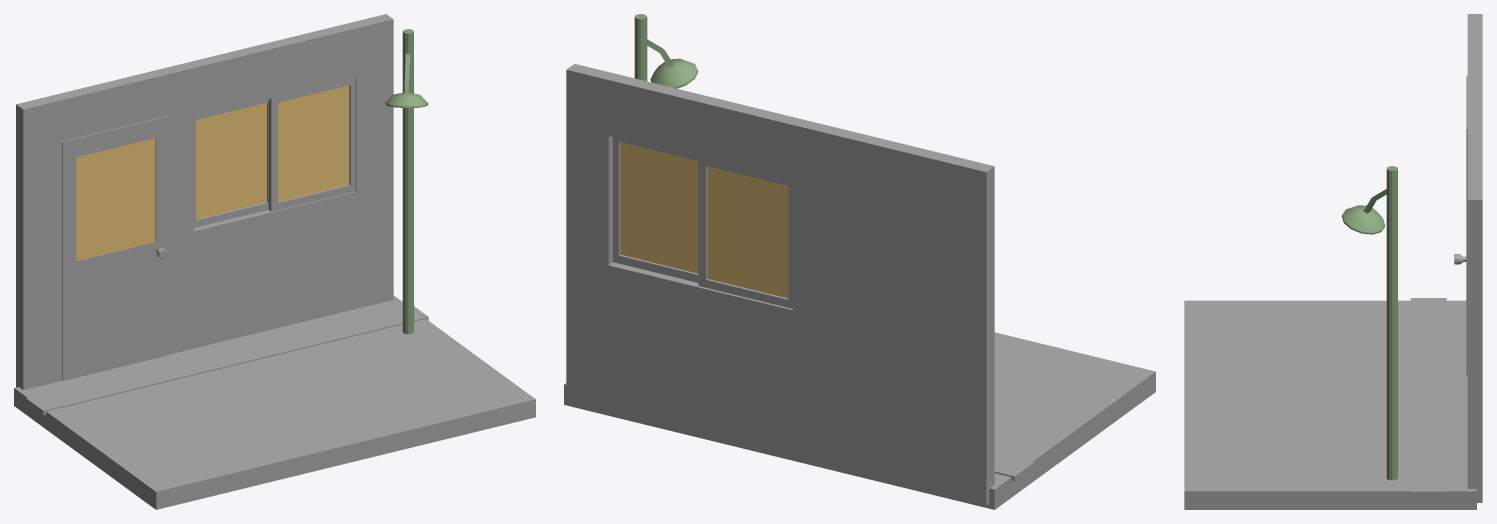
The model's file is sampleEnvironment.fbx.
The picture shows the model from 3 angles, left to right: view 1: azimuth 30°, elevation 25°; view 2: azimuth 150°, elevation 25°; view 3: azimuth 270°, elevation 25°; orthographic projection. The views are drawn at different scales.
Parts seen in each view (by area): view 1: pCube7, pCube3; view 2: pCube7, pCube3; view 3: pCube7, pCube3.
Boxes of the visible parts, box(x1,y1,x2,y2) form: pCube7: box(14, 14, 535, 509); pCube3: box(385, 29, 428, 334); pCube7: box(564, 63, 1155, 509); pCube3: box(634, 14, 698, 88); pCube7: box(1184, 14, 1482, 509); pCube3: box(1341, 166, 1397, 480).
Bounding box in the file's own units: 8.91 × 7.04 × 5.8.
